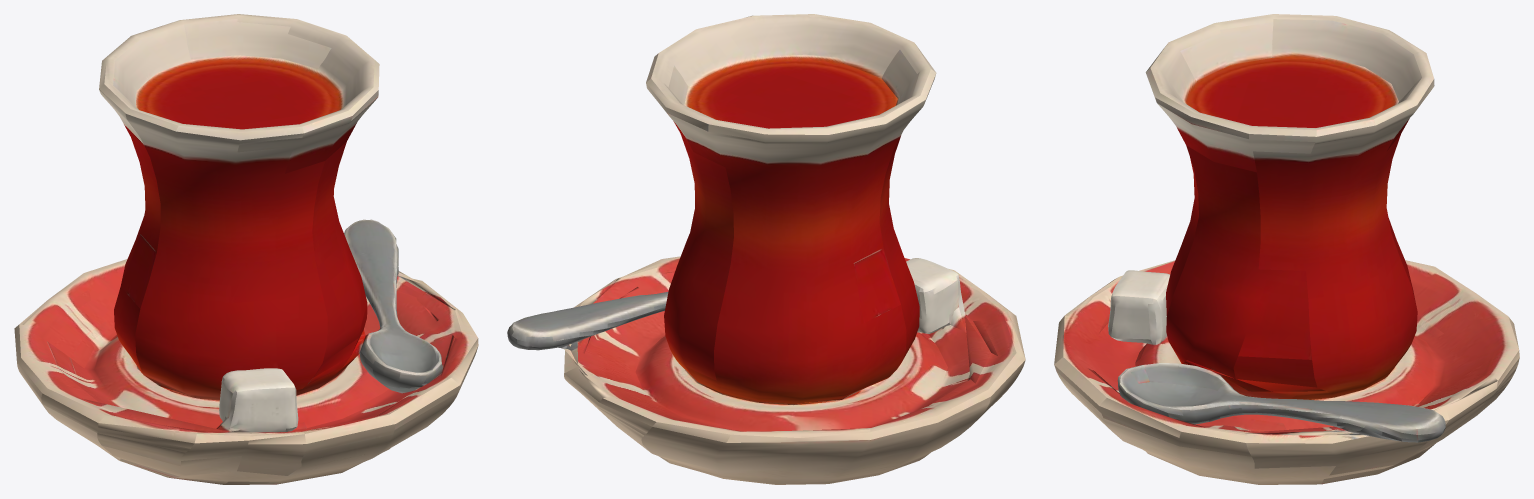
File: cay.glb
The picture shows the model from 3 angles, left to right: view 1: azimuth 30°, elevation 25°; view 2: azimuth 150°, elevation 25°; view 3: azimuth 270°, elevation 25°; orthographic projection.
Visible parts, largest first — view 1: Mesh0; view 2: Mesh0; view 3: Mesh0.
Part boxes in pixels (box(x1,y1,x2,y2)): Mesh0: box(14, 14, 478, 484); Mesh0: box(507, 14, 1025, 484); Mesh0: box(1054, 14, 1519, 484).
Bounding box in the file's own units: 1.89 × 1.51 × 1.85.
Materials: 1 (1 with a texture image).
